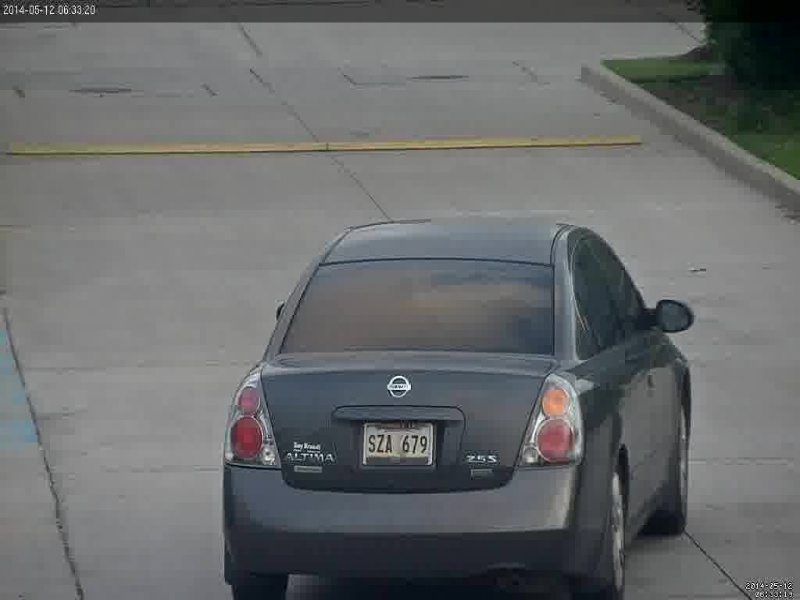licence plate: (361, 421, 435, 466)
